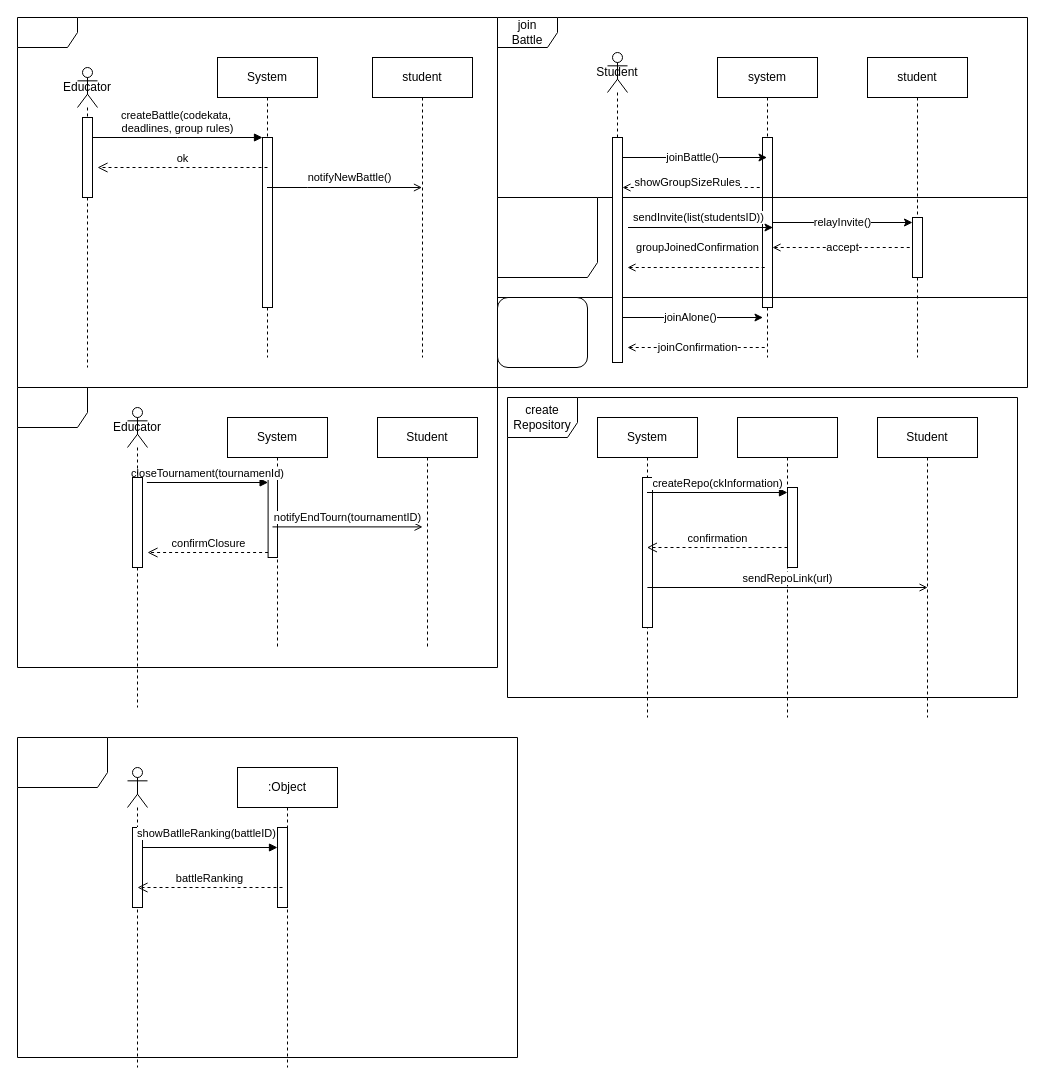
Some shapes in this 1045 by 1085 pixel diagram are drawn without their labels. The shapes that lost their labels are listed below. From the top down, each one's box as (x1, y1, x2, y2) in pixels, then its label:
(16, 16, 498, 388): create Battle
(496, 196, 1028, 298): if minGroupSize>=1 && Student wants group
(496, 296, 588, 368): groupSize=1 or Student want to be alone
(16, 386, 498, 668): close Tournament
(736, 416, 838, 718): Github
(126, 766, 148, 1068): USER
(16, 736, 518, 1058): view BattleRanking
